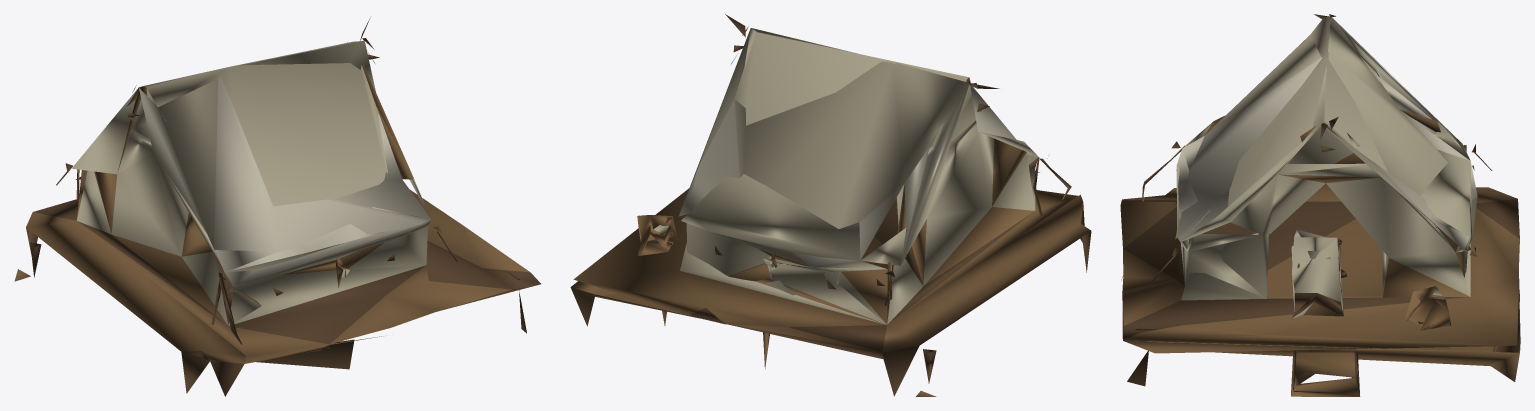
File: survey_tent_a_lod2_tripo.glb
The picture shows the model from 3 angles, left to right: view 1: azimuth 30°, elevation 25°; view 2: azimuth 150°, elevation 25°; view 3: azimuth 270°, elevation 25°; orthographic projection. The views are drawn at different scales.
Visible parts, largest first — view 1: Surface.001; view 2: Surface.001; view 3: Surface.001.
Boxes of the visible parts, x1,y1,x2,y2 form: Surface.001: (14,18,541,396); Surface.001: (570,14,1091,396); Surface.001: (1120,14,1520,396).
Size of the model in its own units: 6.03 by 4.08 by 5.93.
